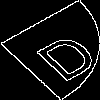D: (25, 25, 100, 83)
